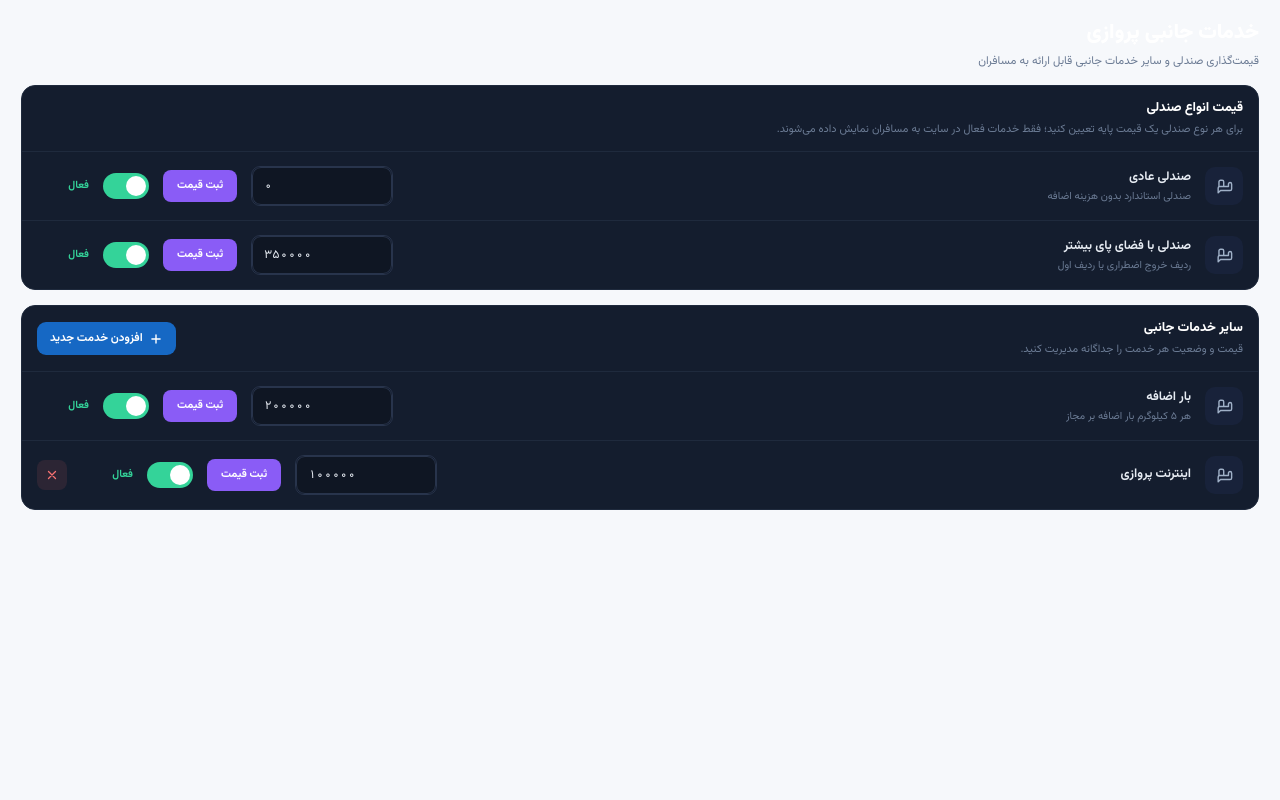
Test: AncillaryServicesPage › adding a custom service submits title/description/price
Expected: the heading "سایر خدمات جانبی" is shown, [1144,318,1243,338]
Click the button "افزودن خدمت جدید" at x=106, y=339, box [37,322,176,355]
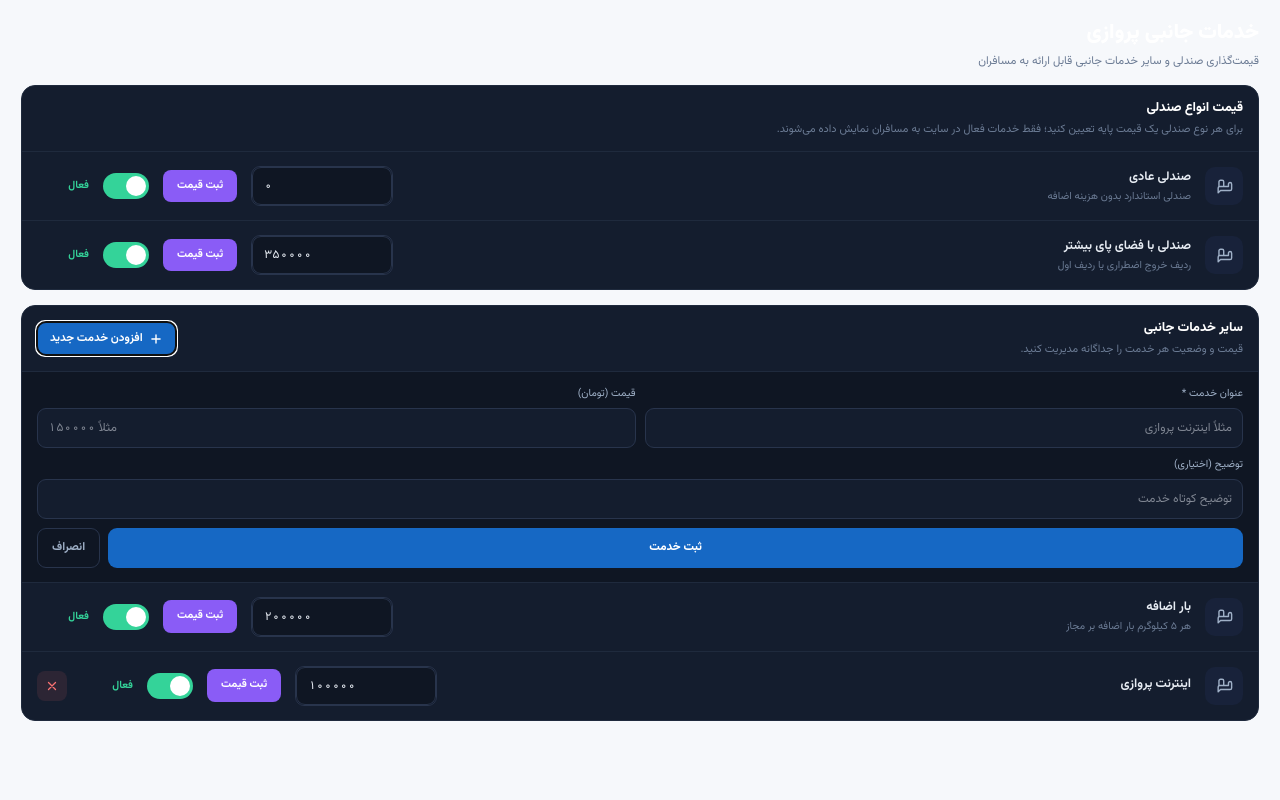
Type "بیمه ویژه" into the field labelled "عنوان خدمت *" at x=944, y=428, box [644,408,1243,448]
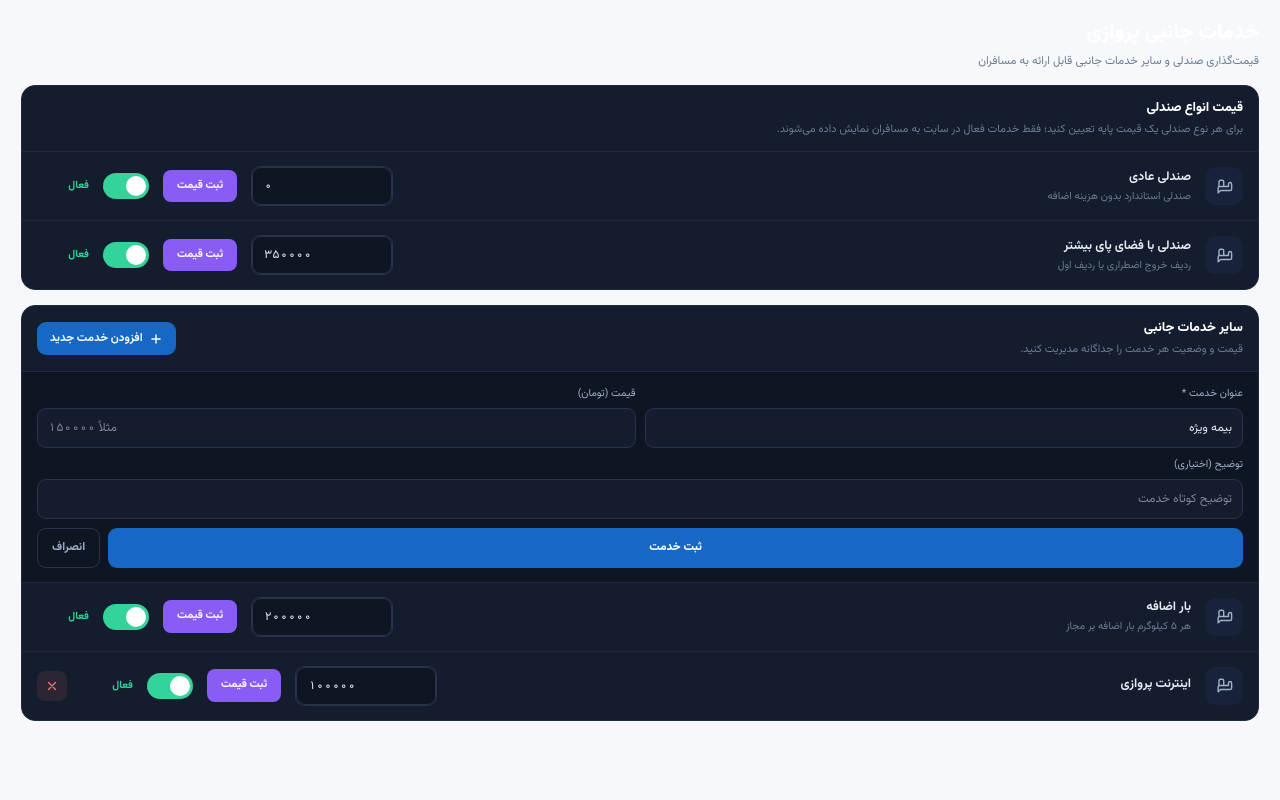
Click the button "ثبت خدمت" at x=676, y=548, box [108,528,1243,568]
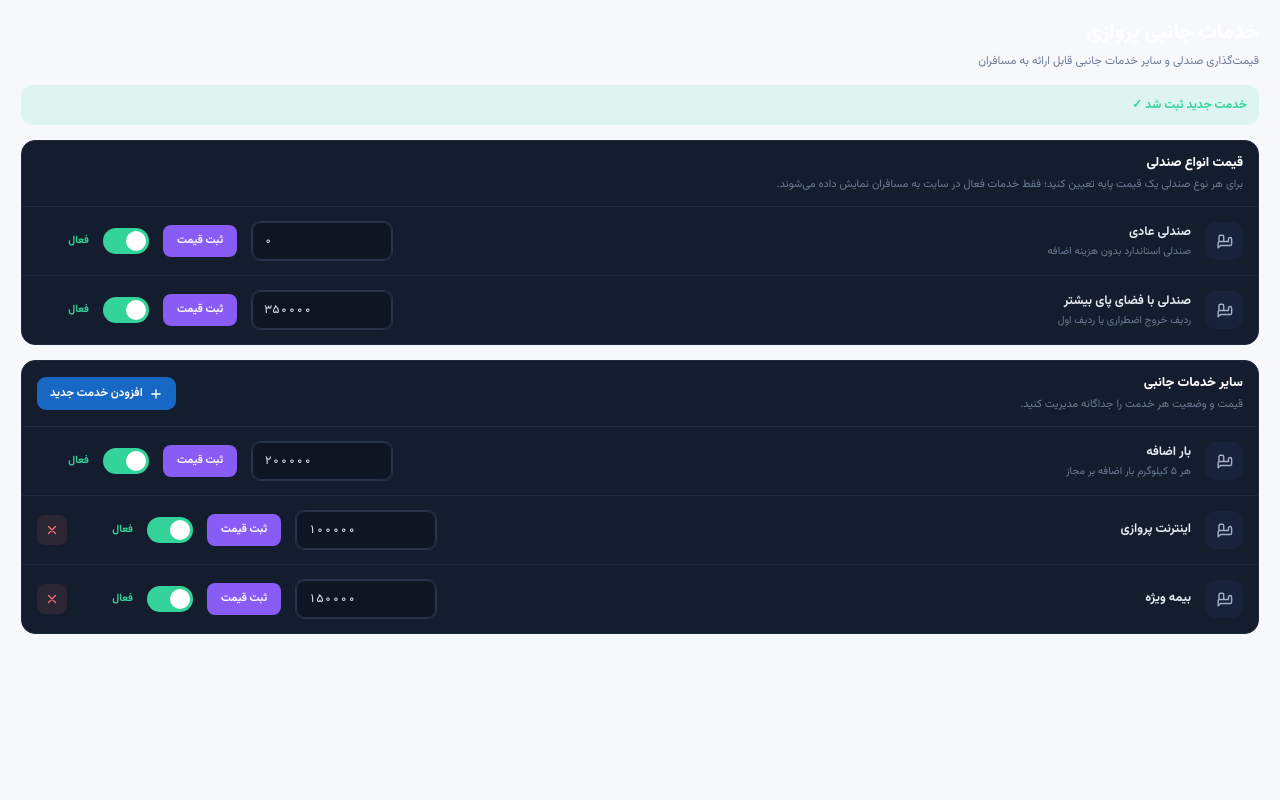
Expected: the text "بیمه ویژه" is shown, [1145,588,1191,608]
